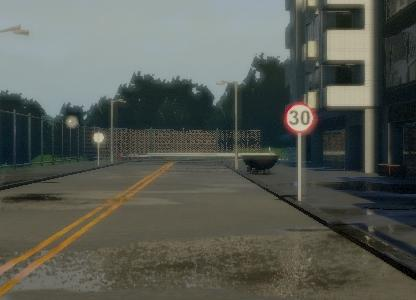Speed_30: (289, 98, 325, 132)
